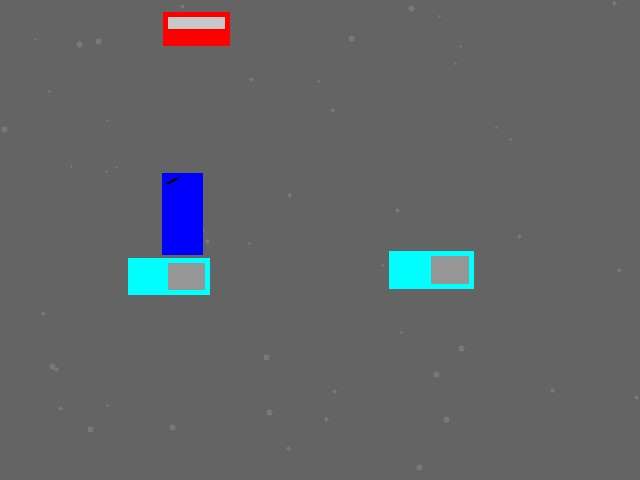car: (163, 12, 229, 45)
motorcycle: (162, 173, 202, 254)
truck: (389, 251, 473, 288), (128, 258, 209, 294)
